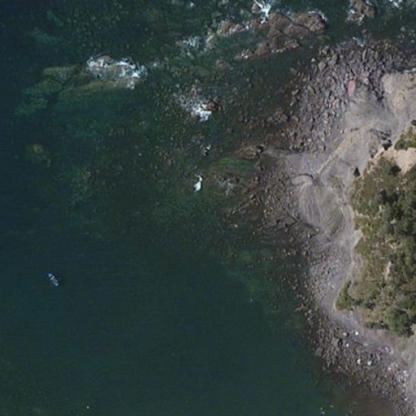ship: (44, 266, 62, 291)
